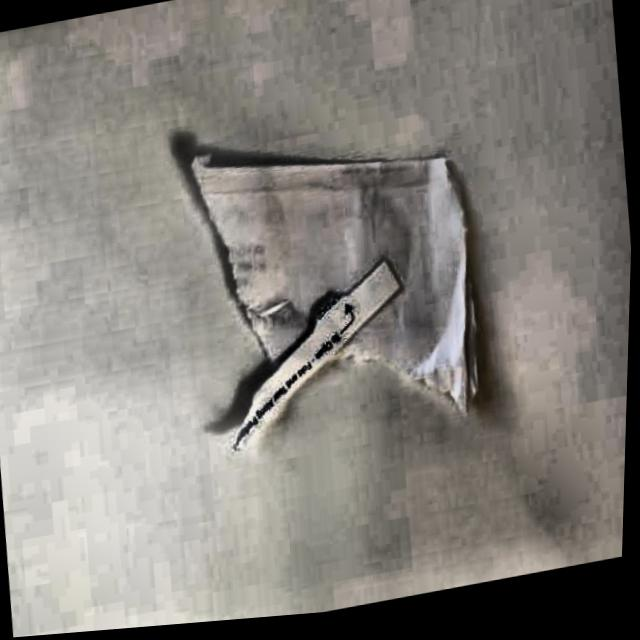Paper: (181, 110, 492, 483)
